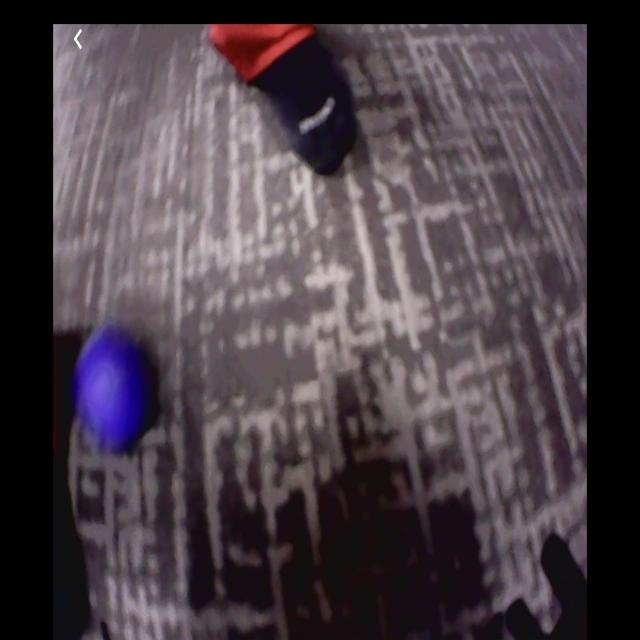ball: (75, 333, 147, 438)
